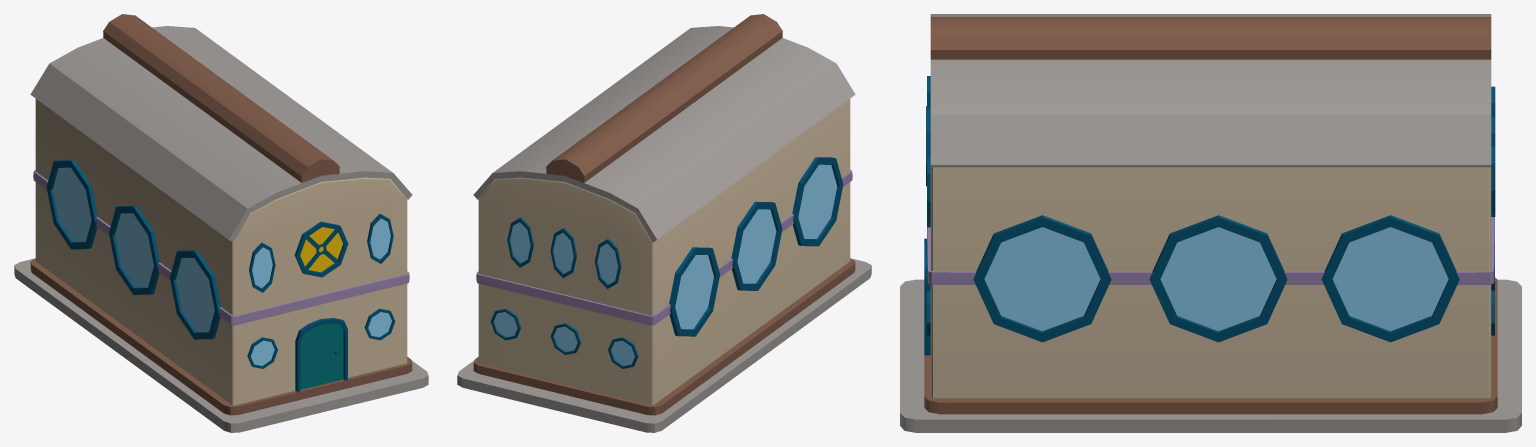
Rendered from House_1.fbx.
3 renders of one model, left to right at view 1: azimuth 30°, elevation 25°; view 2: azimuth 150°, elevation 25°; view 3: azimuth 270°, elevation 25°, orthographic. The views are drawn at different scales.
Visible parts, largest first — view 1: House_1; view 2: House_1; view 3: House_1.
Part boxes in pixels (x1=…): House_1: x1=14, y1=14, x2=428, y2=432; House_1: x1=457, y1=14, x2=871, y2=432; House_1: x1=900, y1=14, x2=1521, y2=432.
Bounding box in the file's own units: 224 × 419 × 255.
